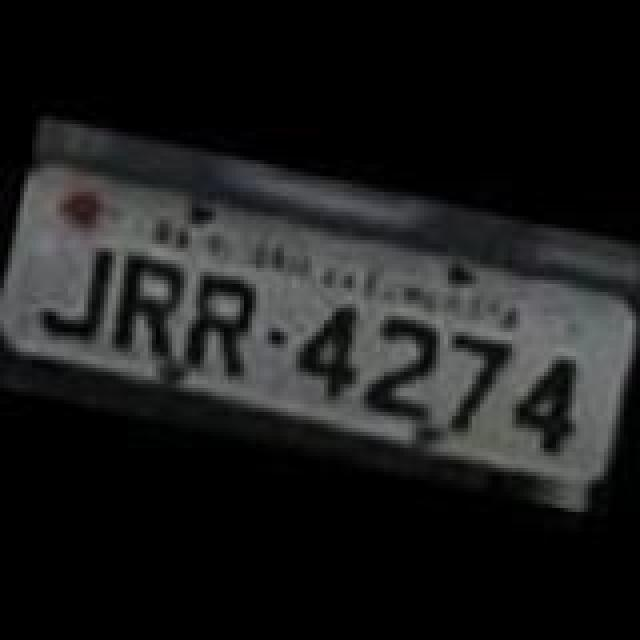2: (348, 308, 452, 432)
4: (494, 342, 598, 470), (278, 288, 378, 408)
7: (410, 322, 522, 446)
J: (34, 232, 126, 352)
R: (166, 264, 274, 392), (102, 242, 202, 366)
